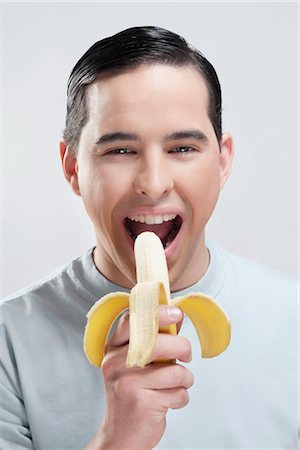eating: (26, 22, 269, 375)
